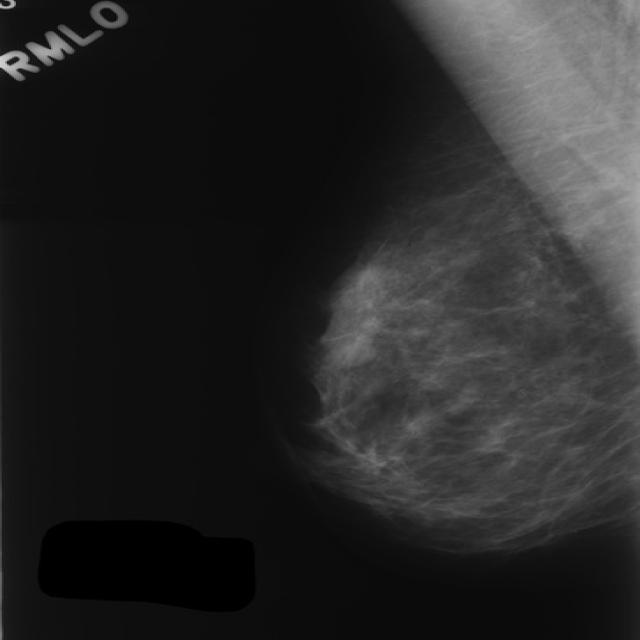tumour: (326, 339, 374, 368)
